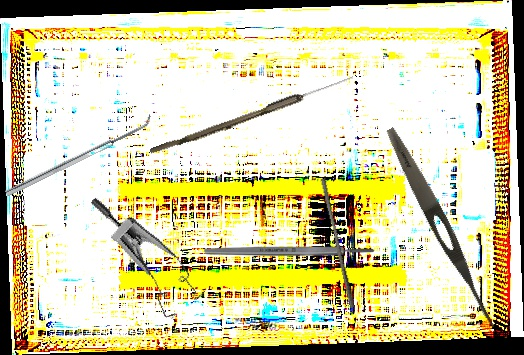Dressing Forceps: (380, 124, 504, 332)
Pusher: (316, 177, 360, 309)
Scalpel Handle: (203, 246, 375, 256)
Spatula Surgical: (1, 113, 156, 197)
Speculum: (60, 195, 219, 329)
Surgical Spoon: (149, 71, 355, 159)
